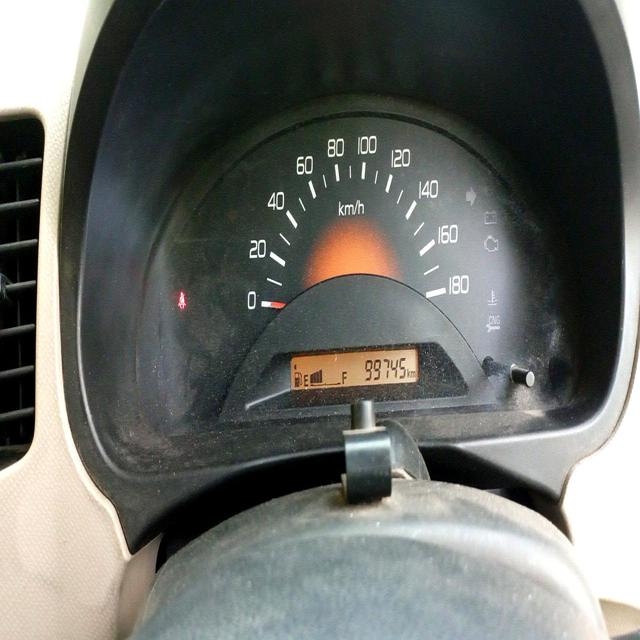odometer: (363, 349, 408, 384)
